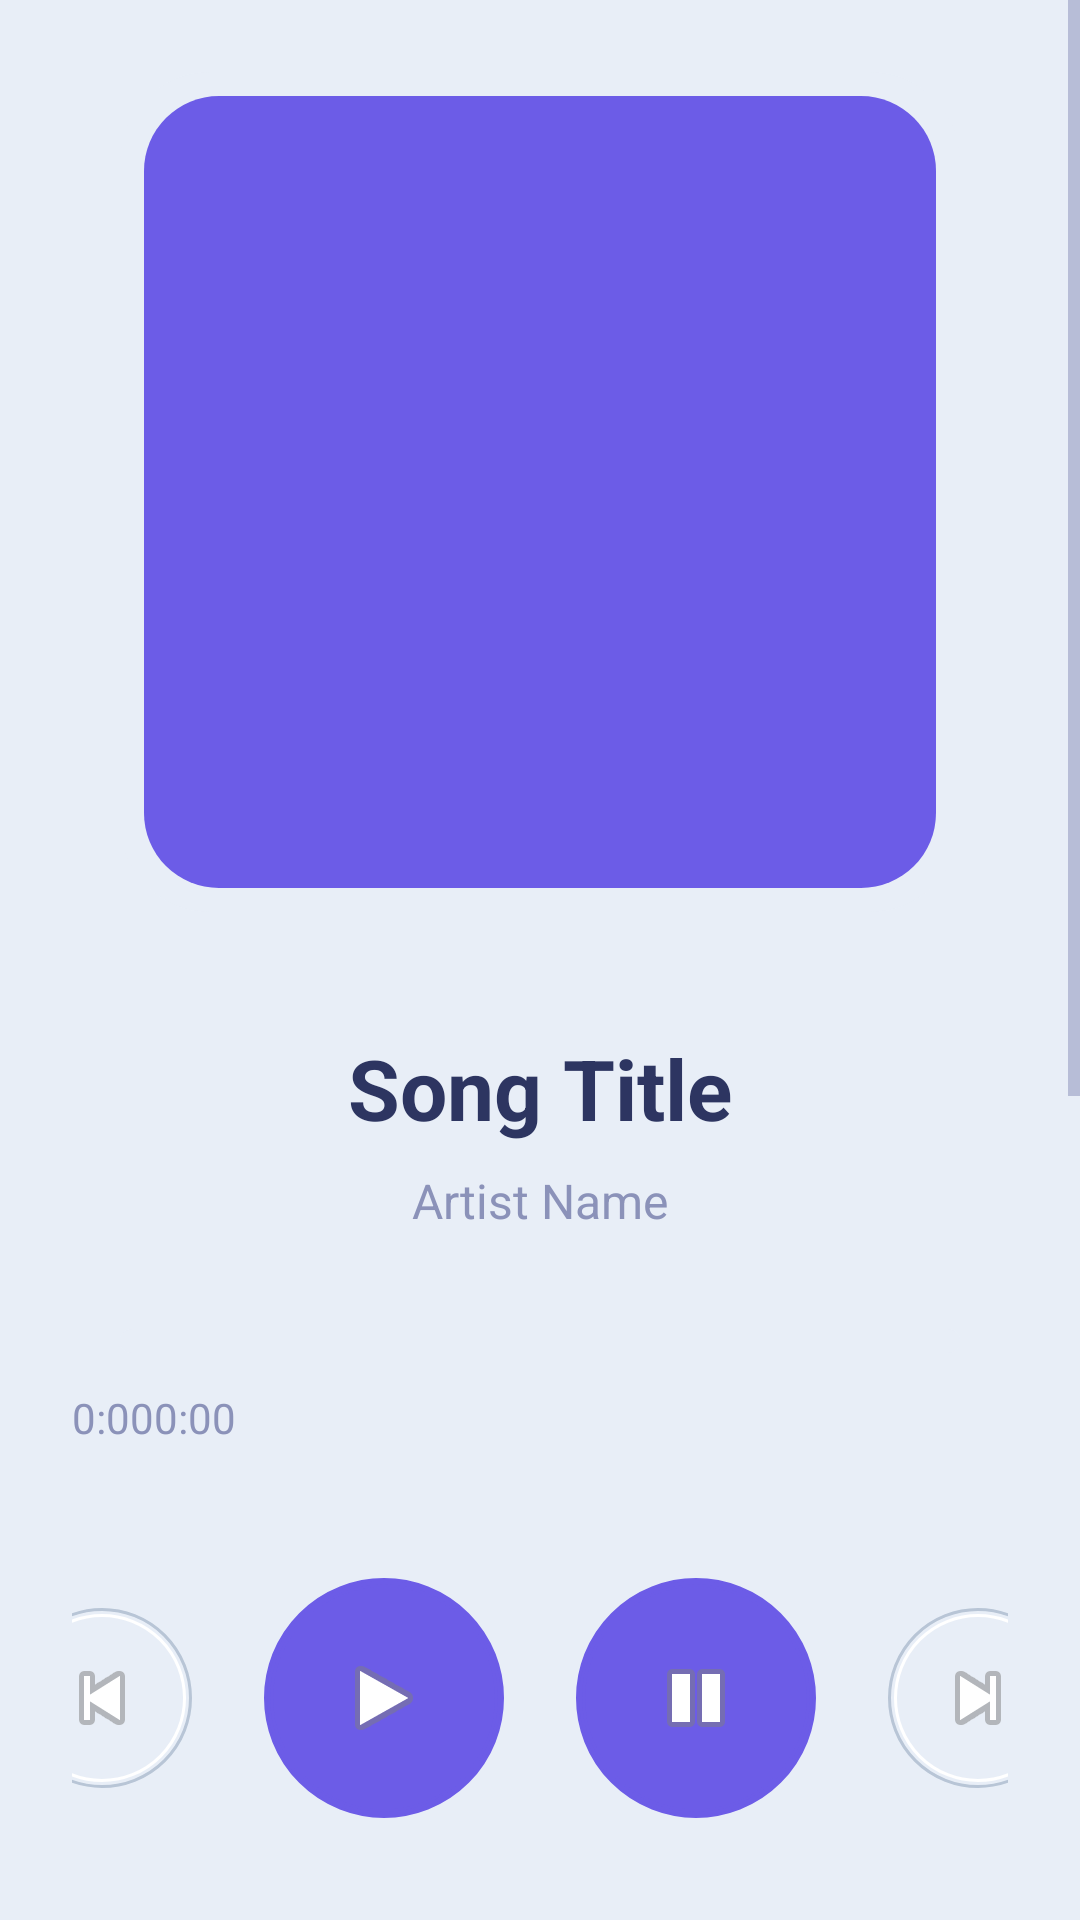

Icons on this 1080px x 1920px Android screen, each with the point to tap as point (x, y):
Pause: point (696, 1698)
Play: point (384, 1698)
